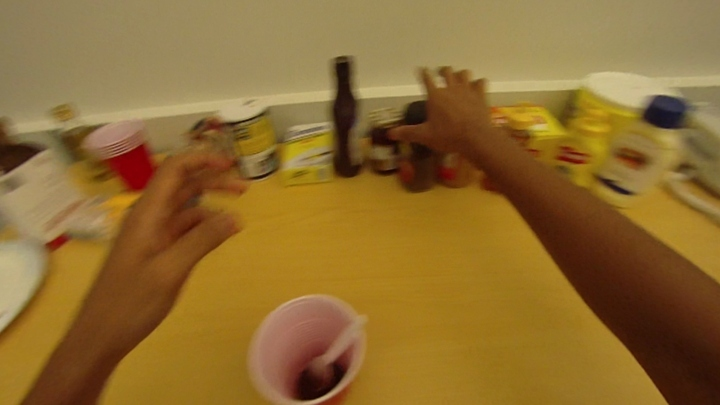hand: (95, 145, 248, 354), (389, 62, 500, 151)
